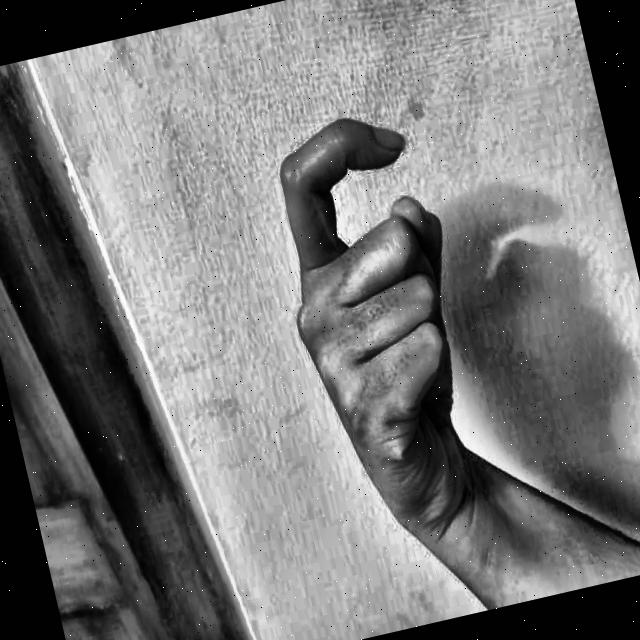E: (220, 44, 576, 558)
